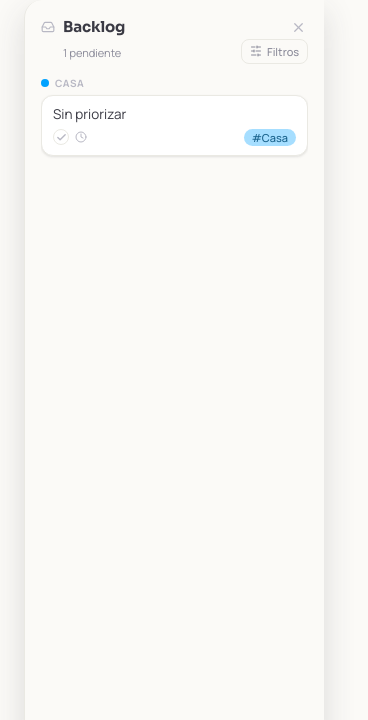
BacklogPanel › con los filtros puestos y nada que mostrar, lo dice en vez de parecer vacío
Click the button with aria-label "Filtrar y ordenar" at x=274, y=51, box [241,38,308,64]
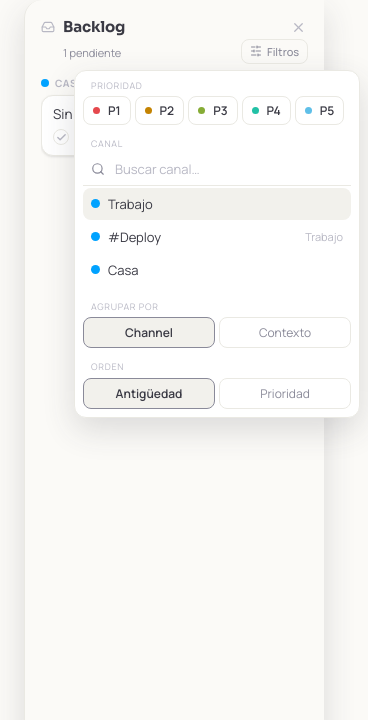
Click the button "P1" at x=107, y=110, box [83,96,131,125]
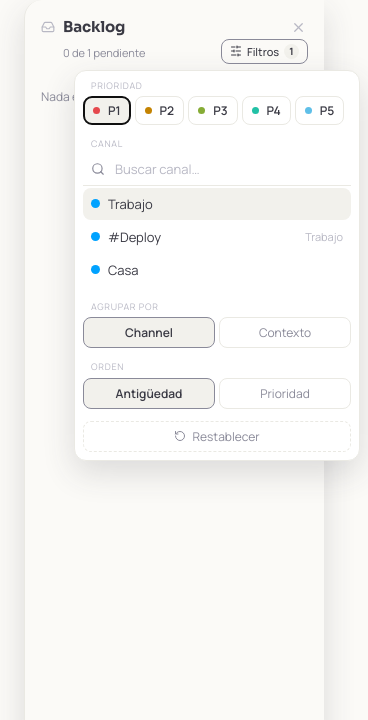
Now the text "Nada en el backlog pasa esos filtros." is shown, box [41,88,240,104]
